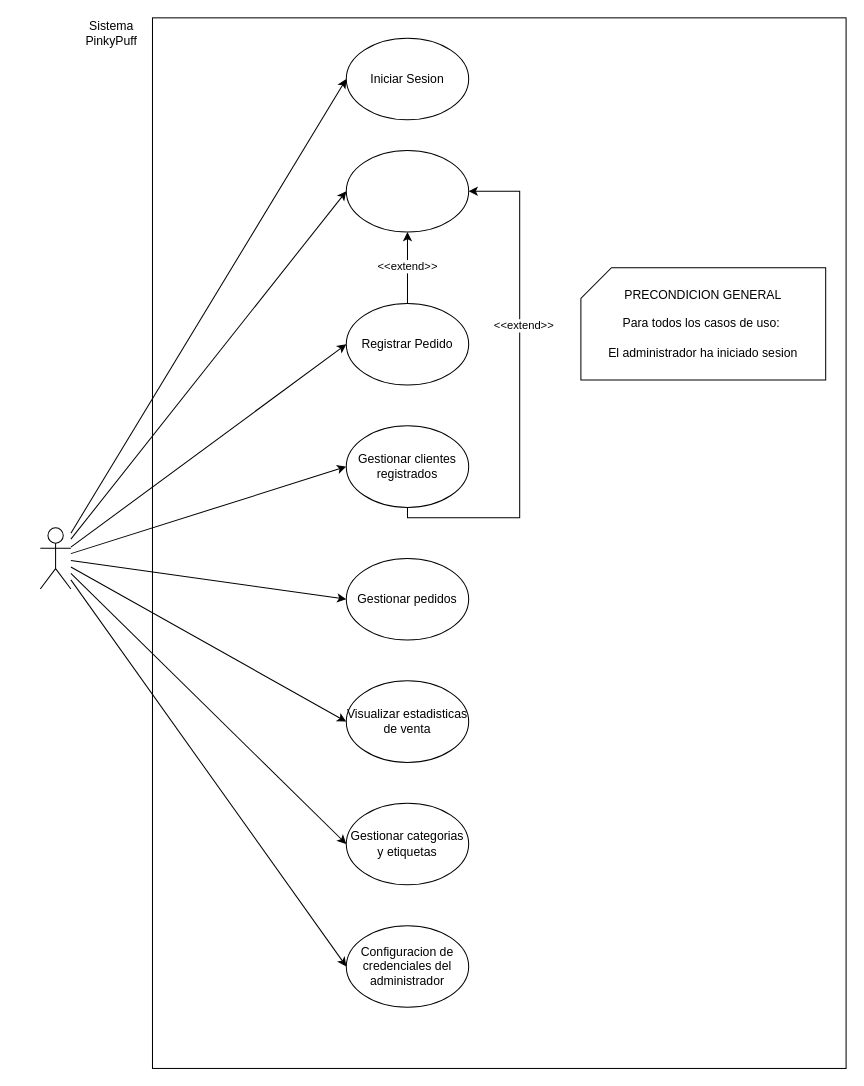
Image size: 864x1086. Some labels were removed from this diagram. Here are the shapes that lost their labels. From the top down, the centre of each, then its label:
point 407,190: Registrar Producto
point 55,558: Administrador
